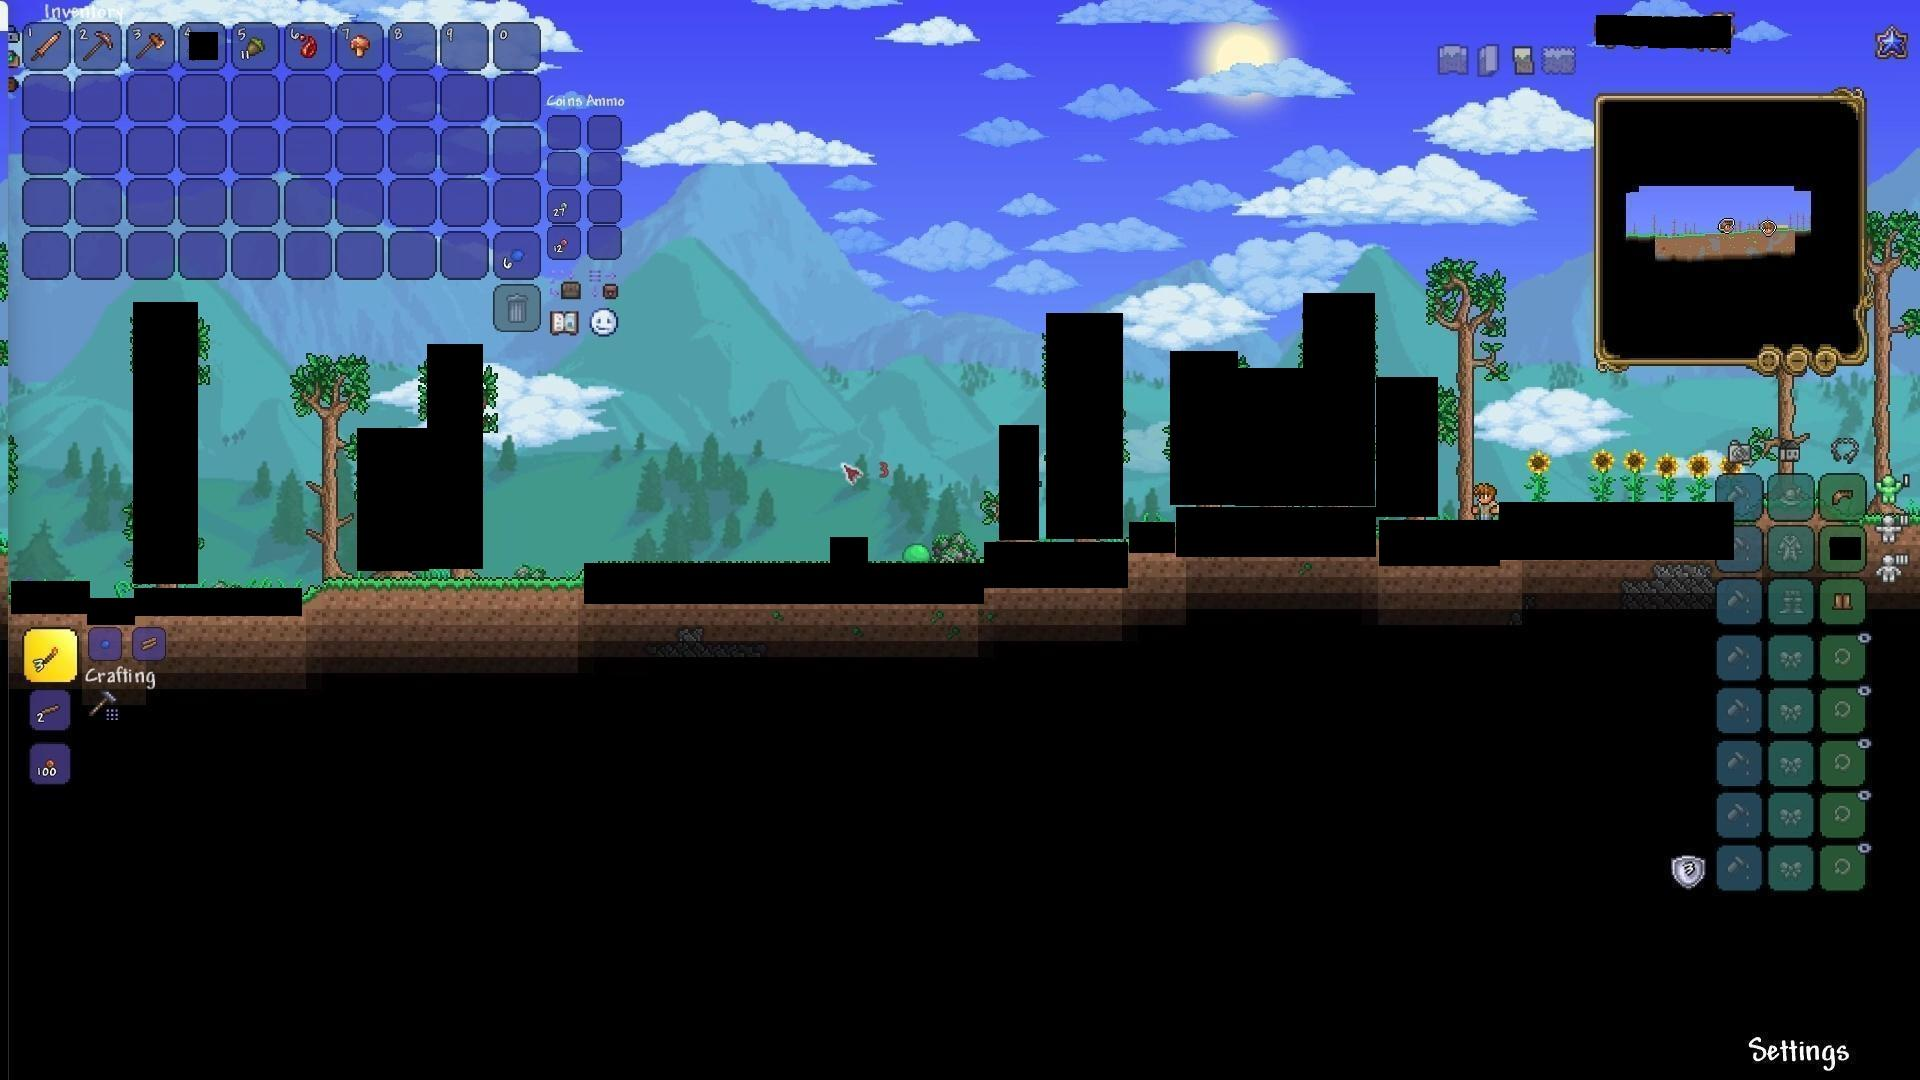dirt: (305, 578, 582, 618)
helmet: (1832, 484, 1858, 508)
legs: (1830, 588, 1855, 616)
slime: (901, 545, 936, 570)
tree: (285, 342, 361, 574), (1859, 210, 1916, 514), (1440, 252, 1495, 517)
wood: (138, 628, 167, 655)
